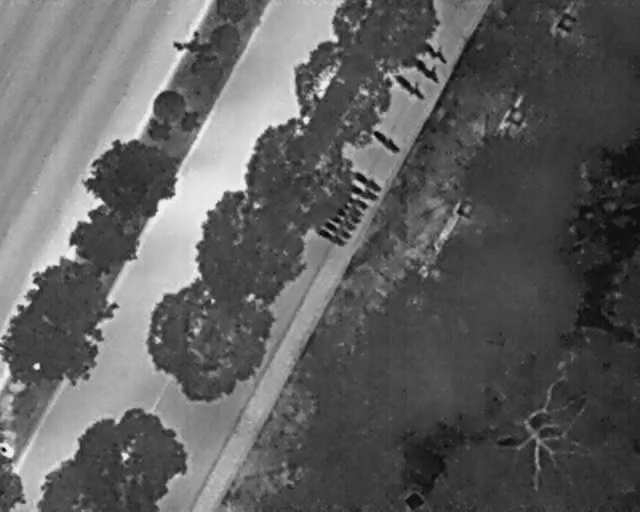Bicycle: (407, 51, 447, 87), (416, 33, 454, 68), (390, 70, 428, 103), (367, 125, 404, 158), (311, 221, 348, 250), (317, 215, 354, 244), (347, 167, 384, 194), (329, 202, 364, 228), (325, 209, 359, 235), (344, 180, 379, 204), (334, 197, 365, 221), (341, 189, 372, 213)
